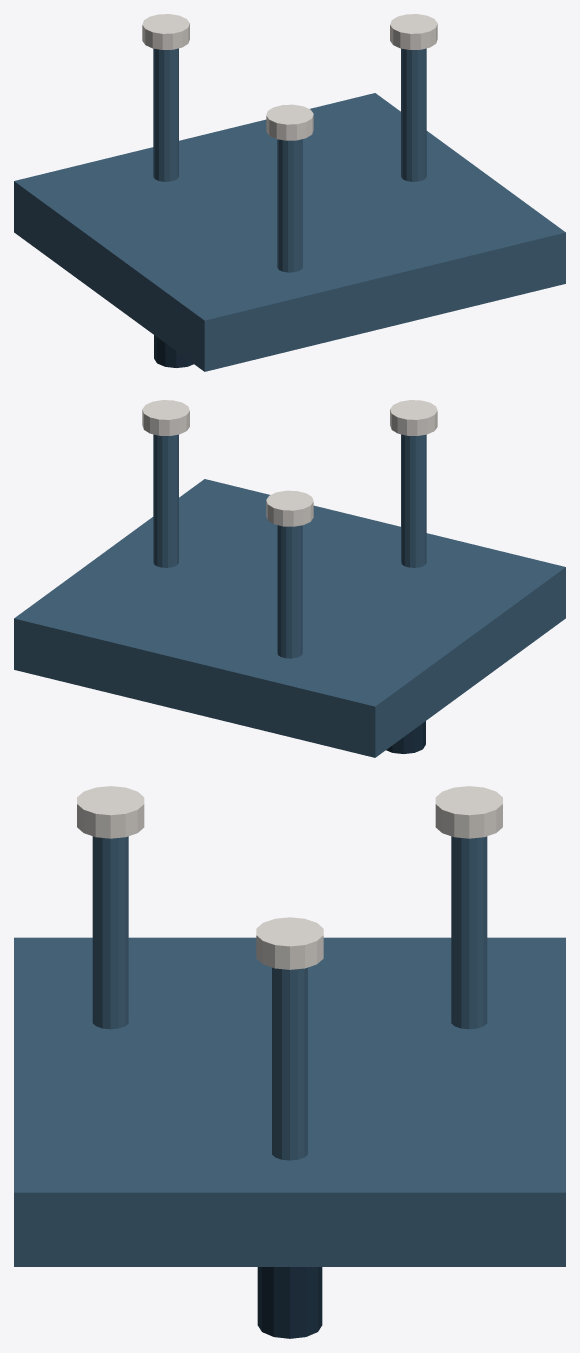
Rendered from 08_L72_WaferLiftPinAssembly.fbx.
3 views of the same model, one above another, from view 1: azimuth 30°, elevation 25°; view 2: azimuth 150°, elevation 25°; view 3: azimuth 270°, elevation 25° (orthographic). The views are drawn at different scales.
Parts seen in each view (by area): view 1: WaferLiftPinAssembly; view 2: WaferLiftPinAssembly; view 3: WaferLiftPinAssembly.
Boxes of the visible parts, x1,y1,x2,y2 form: WaferLiftPinAssembly: (14,14,565,371); WaferLiftPinAssembly: (14,400,565,757); WaferLiftPinAssembly: (14,786,565,1338).
Size of the model in its own units: 140 by 102 by 128.
